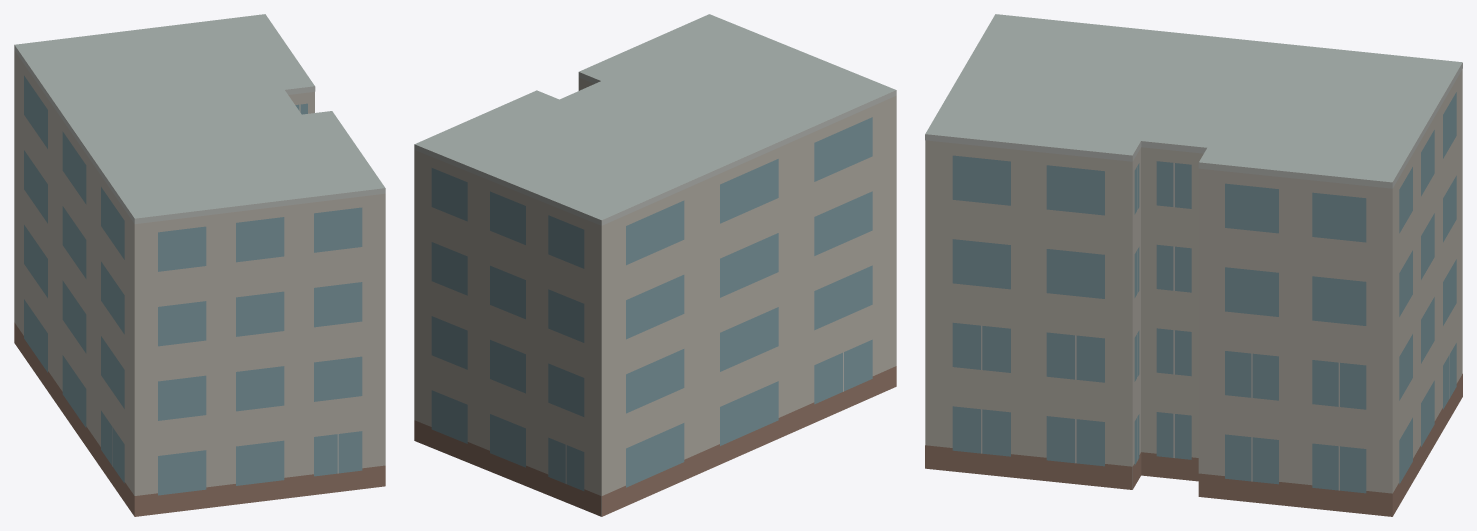
File: survey-upis-32610528.glb
3 views of the same model, side by side, from view 1: azimuth 30°, elevation 25°; view 2: azimuth 150°, elevation 25°; view 3: azimuth 270°, elevation 25° (orthographic). The views are drawn at different scales.
Parts seen in each view (by area): view 1: survey-upis-32610528.tmp; view 2: survey-upis-32610528.tmp; view 3: survey-upis-32610528.tmp.
Part boxes in pixels (x1,y1,x2,y2): survey-upis-32610528.tmp: (14, 14, 385, 516); survey-upis-32610528.tmp: (414, 14, 896, 516); survey-upis-32610528.tmp: (925, 14, 1462, 516).
Size of the model in its own units: 14.16 by 13.1 by 19.1.
